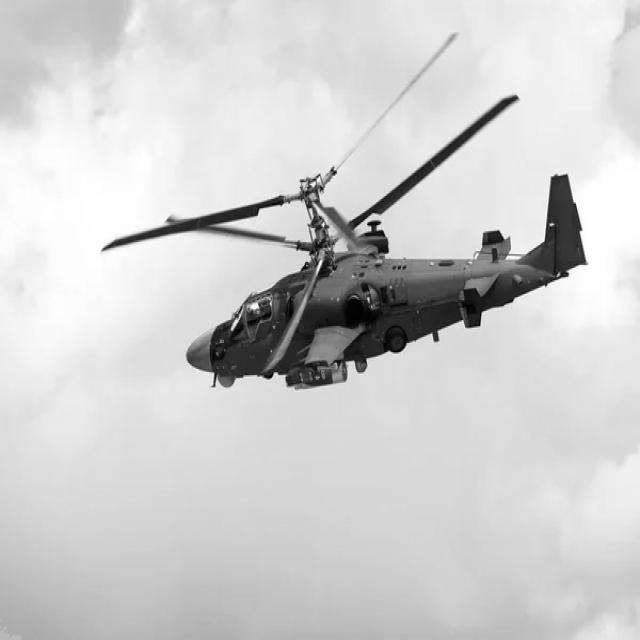Helicopter: (103, 94, 586, 388)
